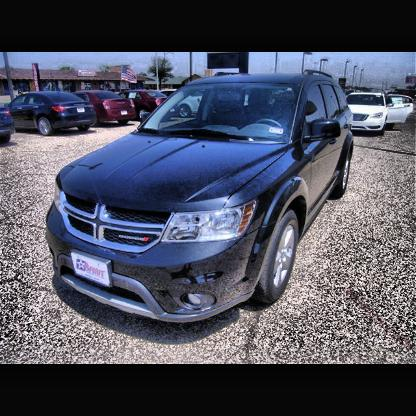Dodge Journey SUV 2012: (48, 74, 356, 325)
